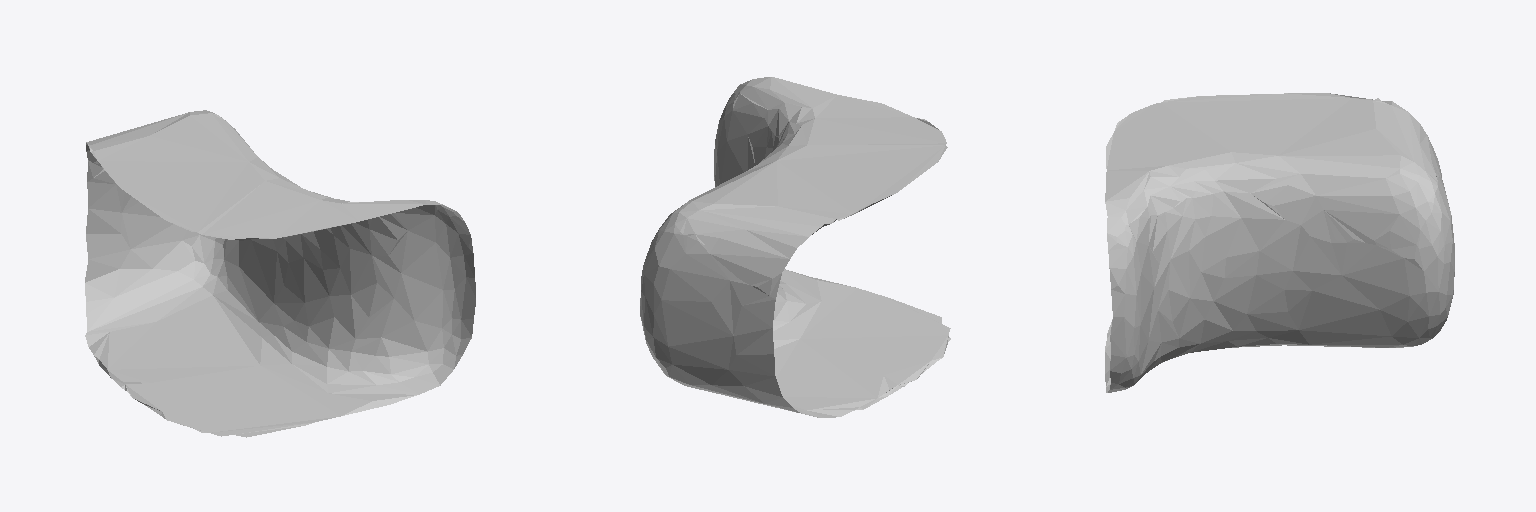
Rendered from trigger.obj.
The picture shows the model from 3 angles: view 1: azimuth 30°, elevation 25°; view 2: azimuth 150°, elevation 25°; view 3: azimuth 270°, elevation 25°; orthographic projection.
Parts seen in each view (by area): view 1: trigger; view 2: trigger; view 3: trigger.
Part boxes in pixels (x1,y1,x2,y2): trigger: (85, 110, 475, 437); trigger: (640, 77, 950, 417); trigger: (1105, 93, 1454, 392).
Size of the model in its own units: 0.0238 by 0.0169 by 0.0266.